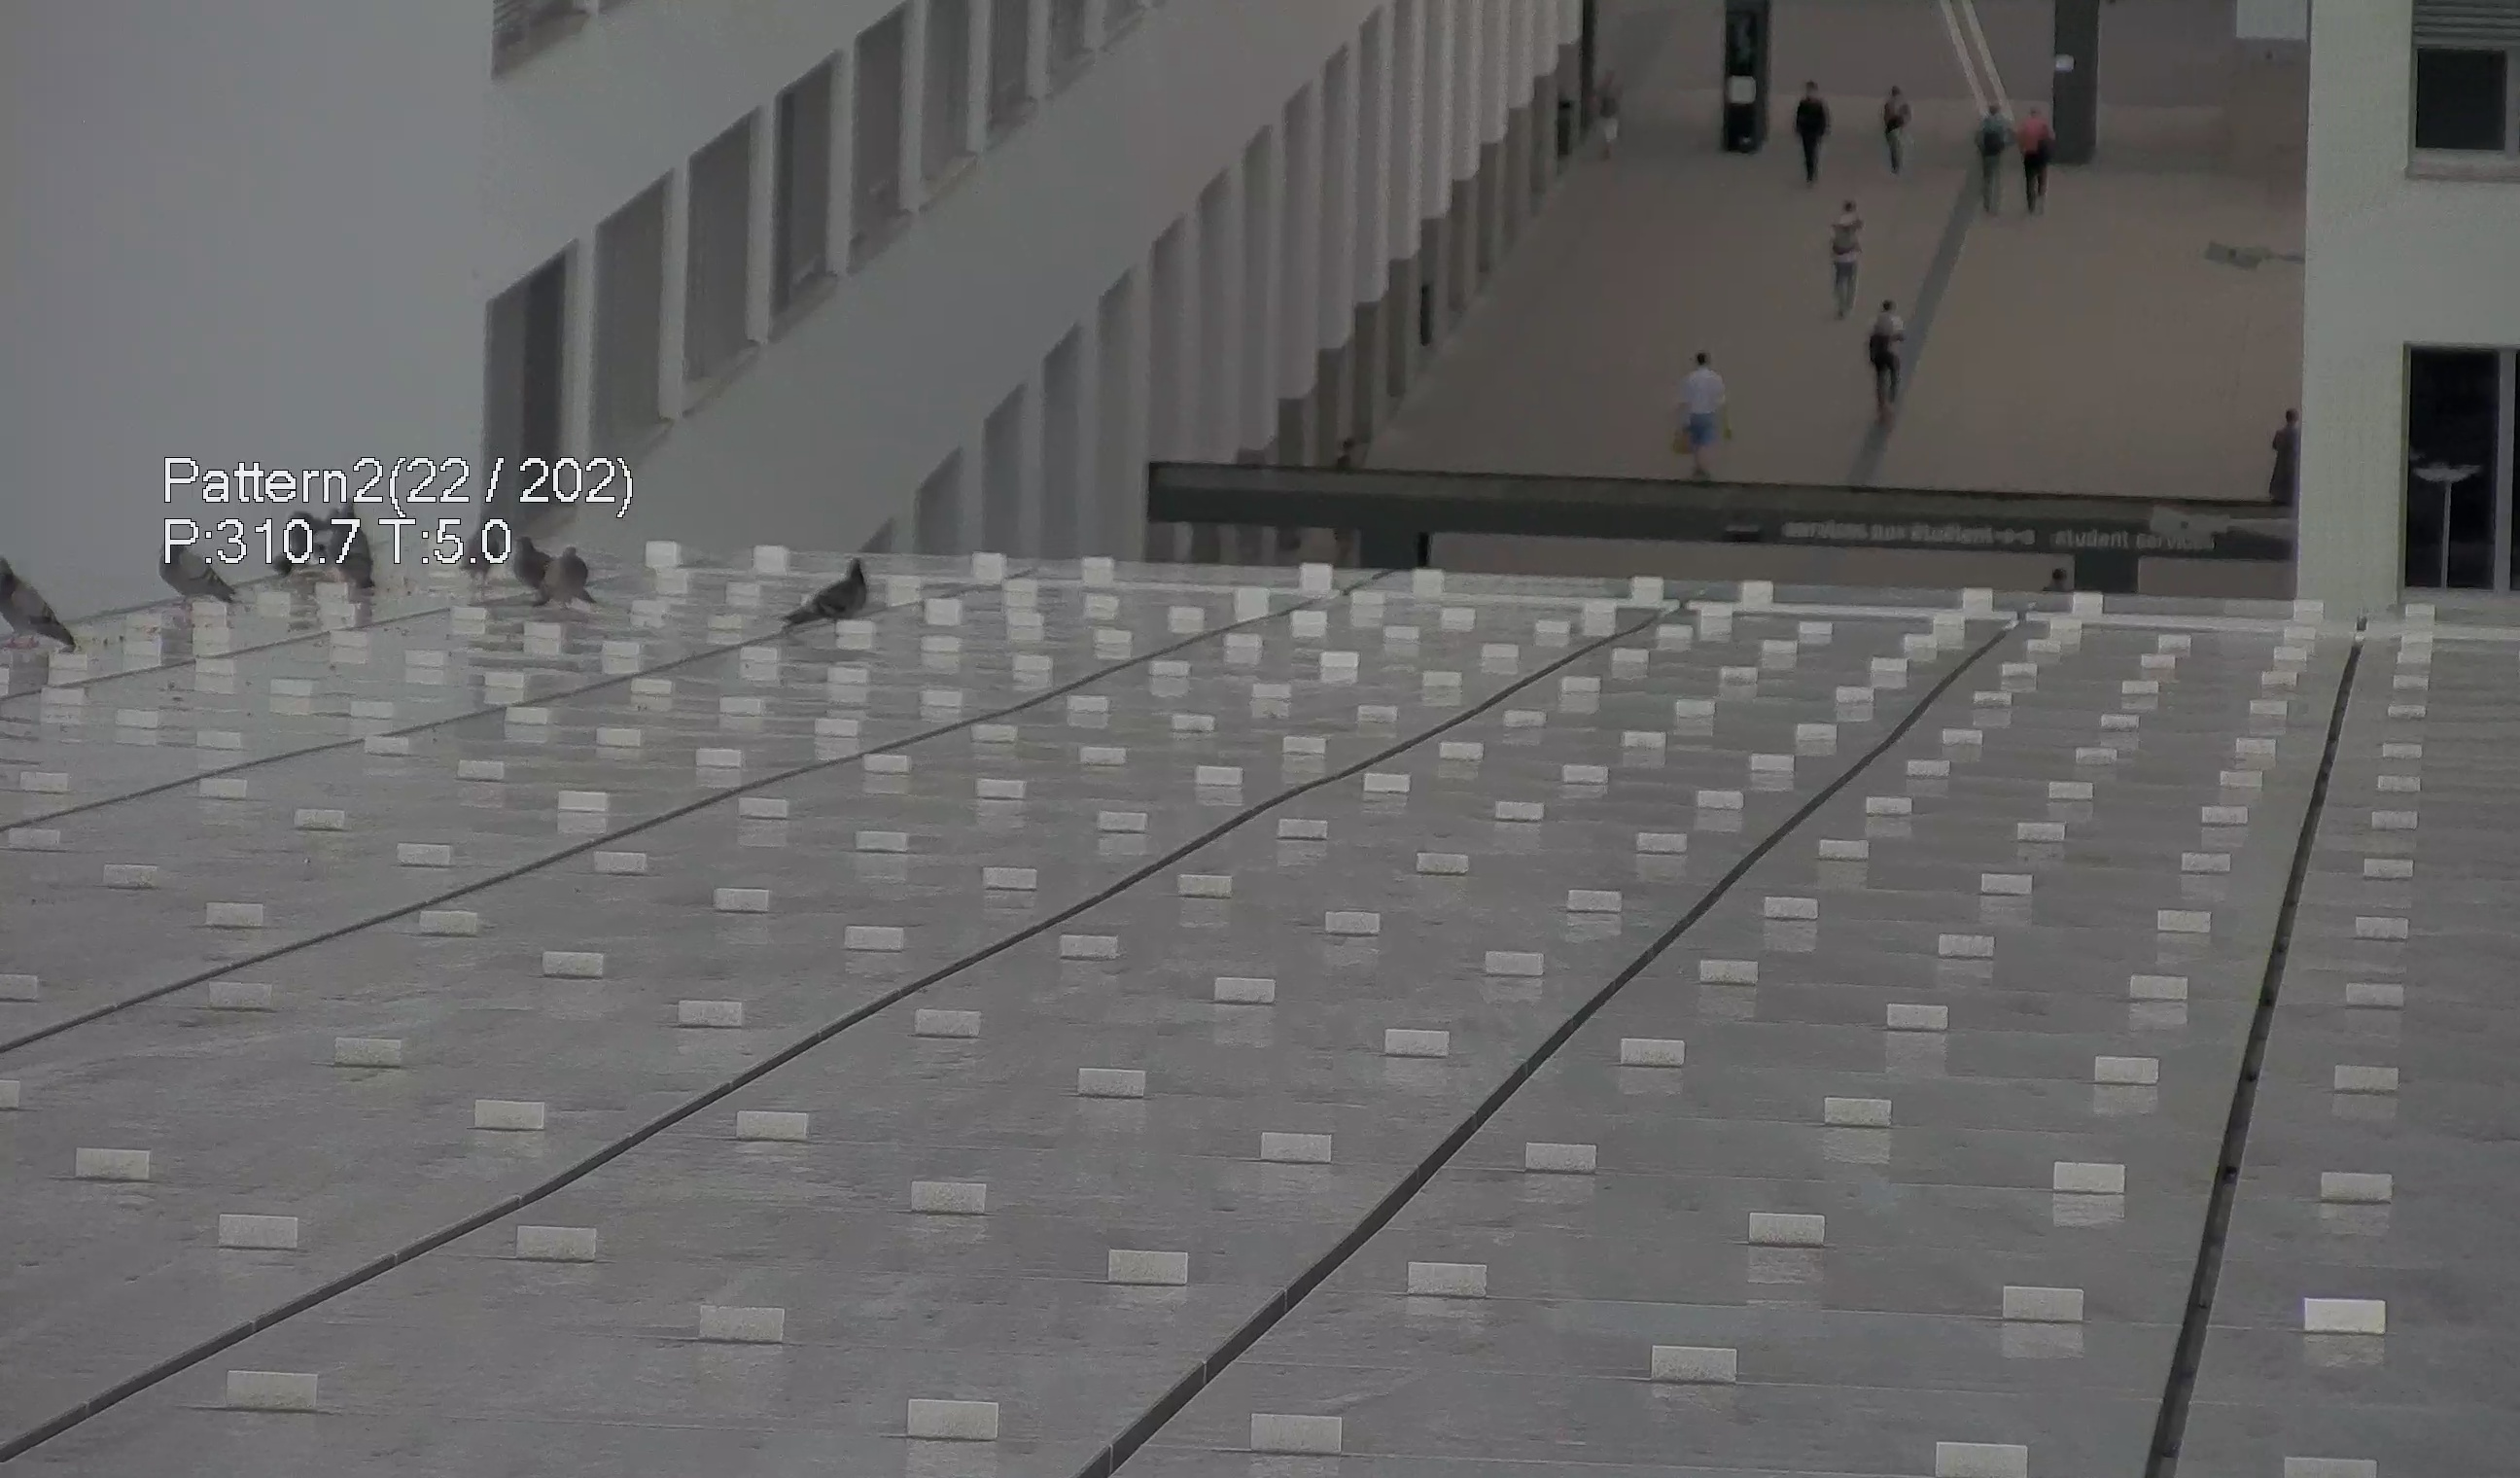Pigeon: (2, 540, 98, 660), (770, 544, 870, 639), (155, 531, 239, 621), (311, 519, 383, 602), (522, 538, 594, 611)
